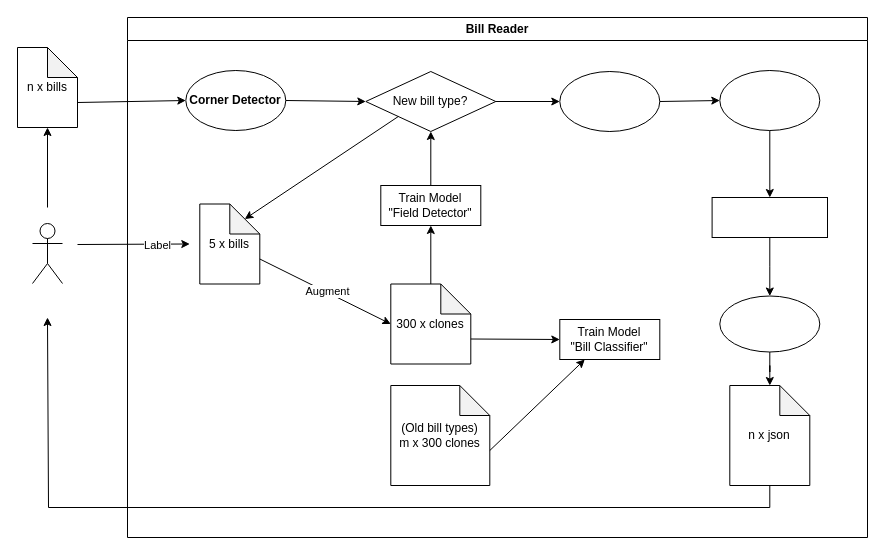
Image size: 885x555. Some labels were removed from this diagram. The centre of each missing label's shape, as x and y in pixels:
Bill Classifier: point 609,101
Detect value area: point 769,217
Field Detector: point 769,100
Tesseract OCR: point 769,323
User: point 47,253
